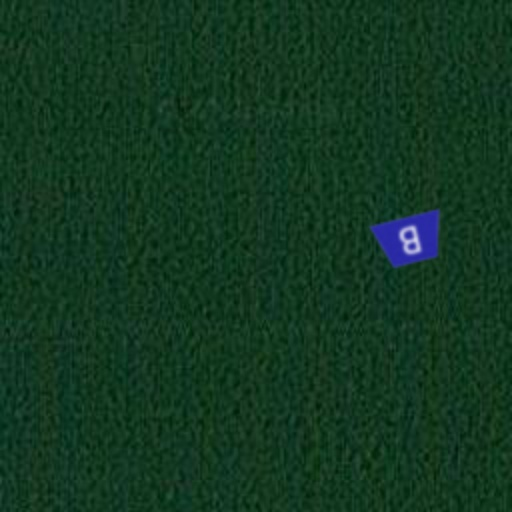trapezoid: (366, 196, 454, 284)
